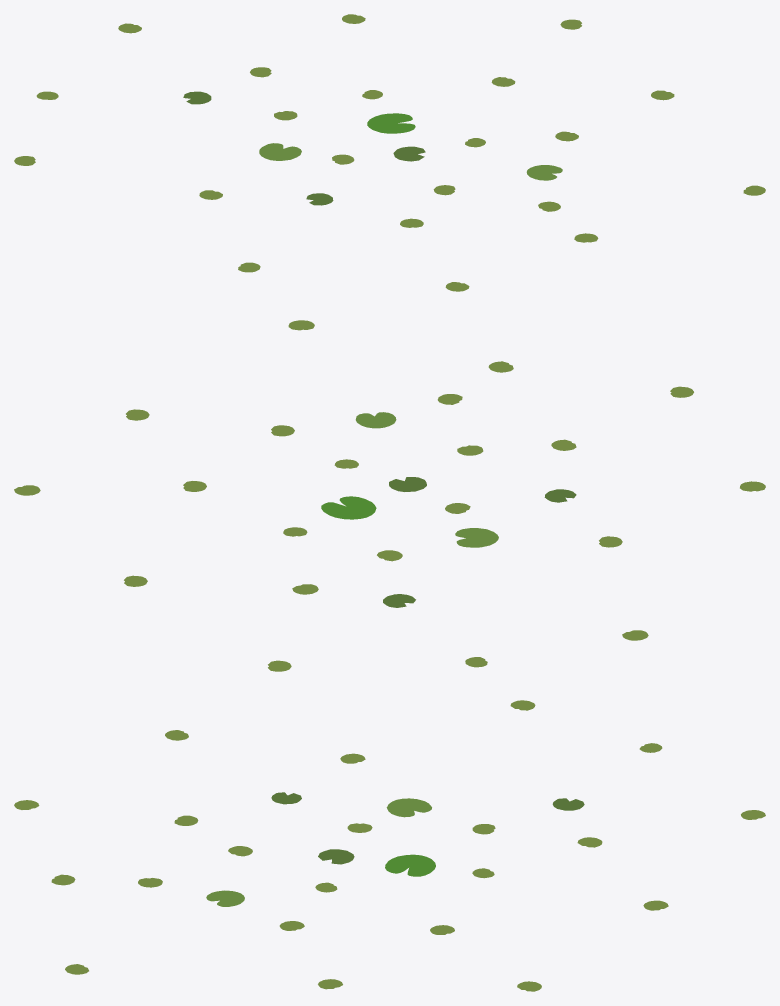
Rendered from plant_nymphaea_set_small_link.fbx.
The picture shows the model from 3 angles, top to bottom: view 1: azimuth 30°, elevation 25°; view 2: azimuth 150°, elevation 25°; view 3: azimuth 270°, elevation 25°; orthographic projection. The views are drawn at different scales.
Parts seen in each view (by area): view 1: plant_nymphaea_set_small_link; view 2: plant_nymphaea_set_small_link; view 3: plant_nymphaea_set_small_link.
Part boxes in pixels (box(x1,y1,x2,y2)): plant_nymphaea_set_small_link: box(14, 14, 765, 291); plant_nymphaea_set_small_link: box(14, 320, 765, 671); plant_nymphaea_set_small_link: box(14, 700, 765, 991).
Size of the model in its own units: 146 by 5.25e-06 by 159.
